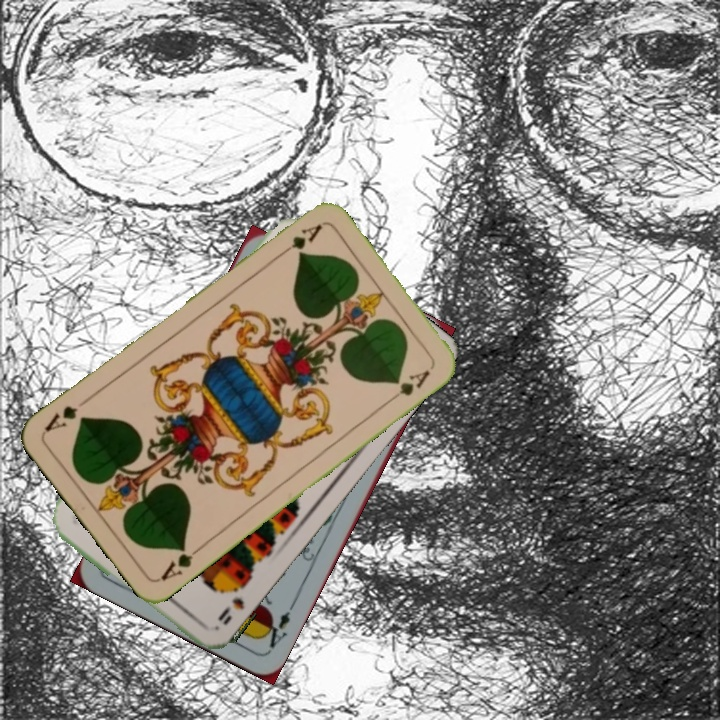EA: (258, 599, 298, 654)
GA: (273, 219, 325, 260), (157, 541, 206, 584)
S9: (213, 578, 251, 628)
